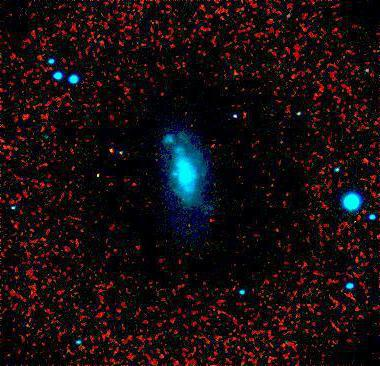star: (77, 155, 107, 185)
